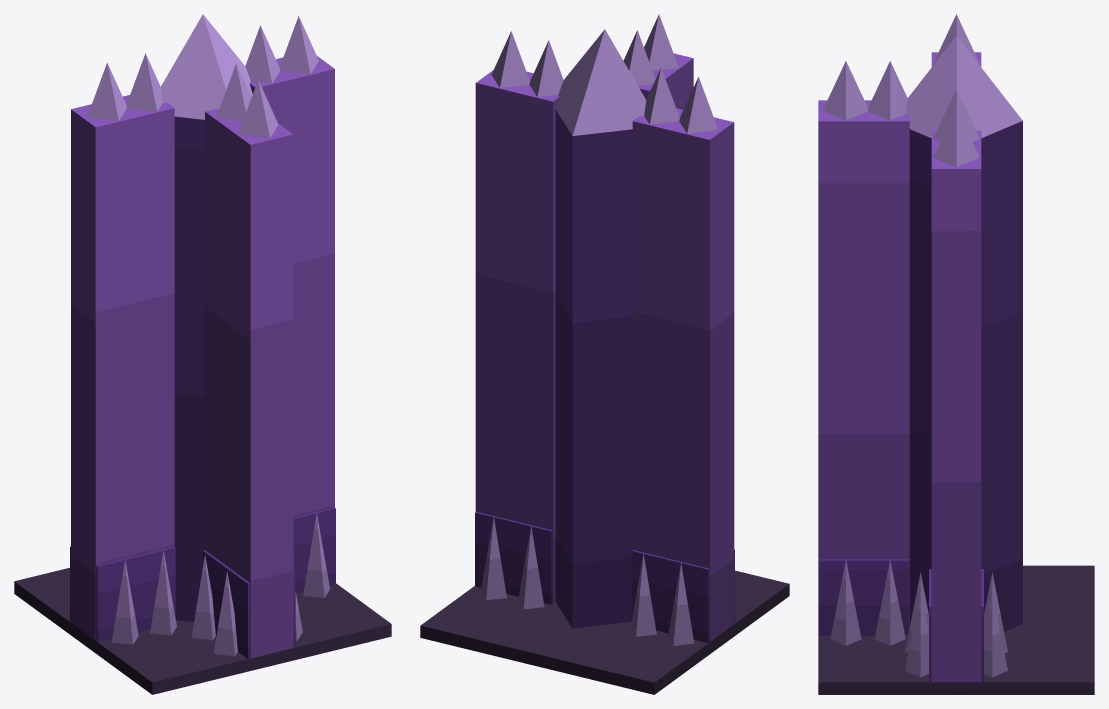
File: model_45_crystal_tee.glb
3 views of the same model, side by side, from view 1: azimuth 30°, elevation 25°; view 2: azimuth 150°, elevation 25°; view 3: azimuth 270°, elevation 25° (orthographic). The views are drawn at different scales.
Bounding box in the file's own units: 1 × 2.4 × 1.
1 material, 1 textured.
